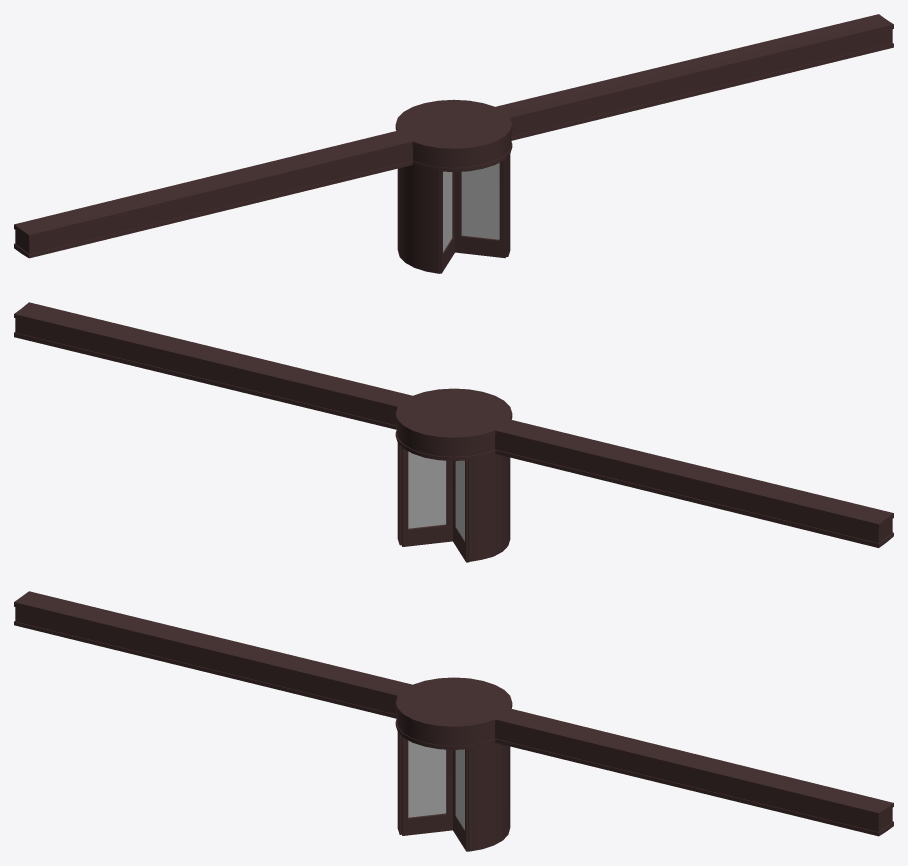
The model's file is LobbyRevolvingDoor.fbx.
The picture shows the model from 3 angles, top to bottom: view 1: azimuth 30°, elevation 25°; view 2: azimuth 150°, elevation 25°; view 3: azimuth 330°, elevation 25°; orthographic projection.
Visible parts, largest first — view 1: RevolvingDoorFrame, RevolvingDoor; view 2: RevolvingDoorFrame, RevolvingDoor; view 3: RevolvingDoorFrame, RevolvingDoor.
Part boxes in pixels (x1=…): RevolvingDoorFrame: x1=14, y1=14, x2=893, y2=273; RevolvingDoor: x1=440, y1=158, x2=506, y2=273; RevolvingDoorFrame: x1=14, y1=302, x2=893, y2=561; RevolvingDoor: x1=401, y1=447, x2=468, y2=562; RevolvingDoorFrame: x1=14, y1=591, x2=893, y2=851; RevolvingDoor: x1=401, y1=736, x2=467, y2=851.
Bounding box in the file's own units: 27.21 × 3.83 × 3.18.
